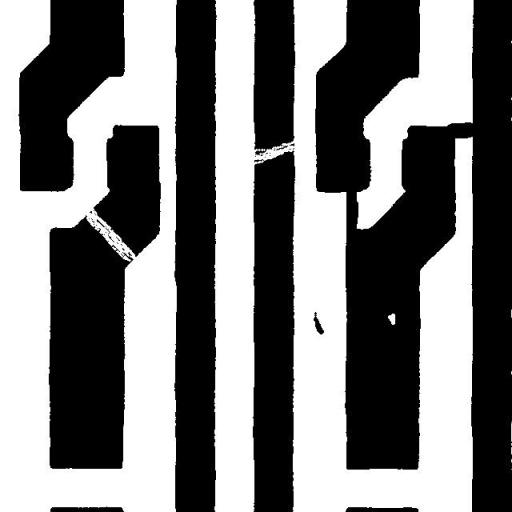copper: (306, 304, 331, 342)
open: (76, 197, 146, 269), (242, 132, 308, 172)
pin-hole: (380, 306, 402, 332)
short: (338, 176, 366, 242), (438, 114, 484, 146)
